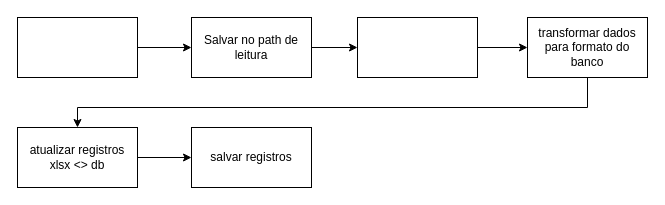
The diagram is 665 pixels wide and 205 high, and some of its shapes have lost their labels. Here are the shapes that lost their labels. From the top down, the centre of each, then its label:
At pixel 77 47: "Exportar arquivo B3".
At pixel 417 47: "extrair dados do arquivo".
